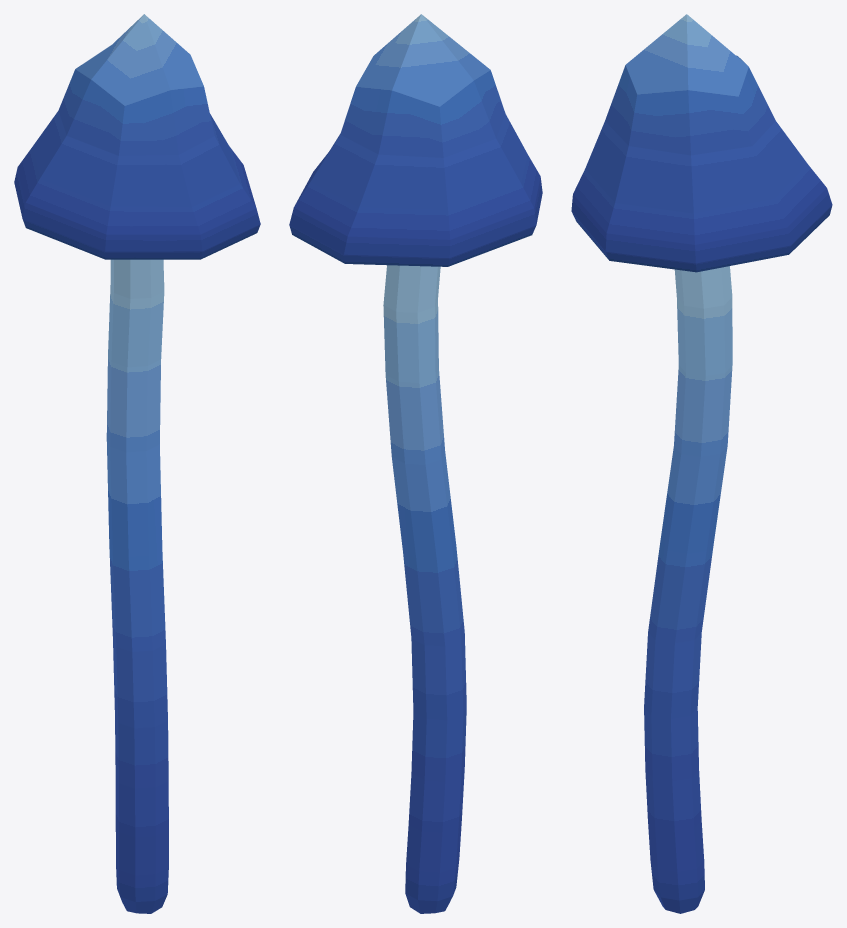
The model's file is BluePinkgill_small.glb.
The picture shows the model from 3 angles, left to right: view 1: azimuth 30°, elevation 25°; view 2: azimuth 150°, elevation 25°; view 3: azimuth 270°, elevation 25°; orthographic projection.
Parts seen in each view (by area): view 1: Cube.002; view 2: Cube.002; view 3: Cube.002.
Part boxes in pixels (bbox=[...]): Cube.002: bbox=[14, 14, 260, 913]; Cube.002: bbox=[289, 14, 542, 913]; Cube.002: bbox=[571, 14, 832, 913].
Size of the model in its own units: 1.35 by 5.1 by 1.34.
Materials: 1 (1 with a texture image).
